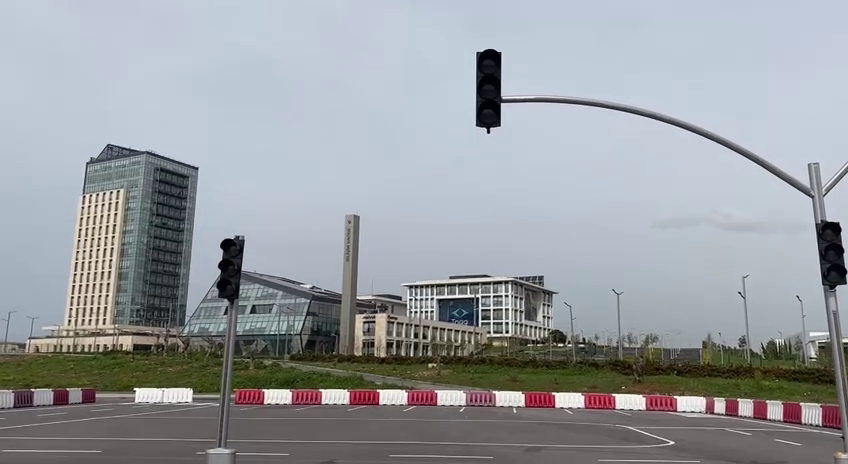trafficLight: (469, 42, 507, 137), (813, 219, 848, 289), (214, 233, 248, 305)
